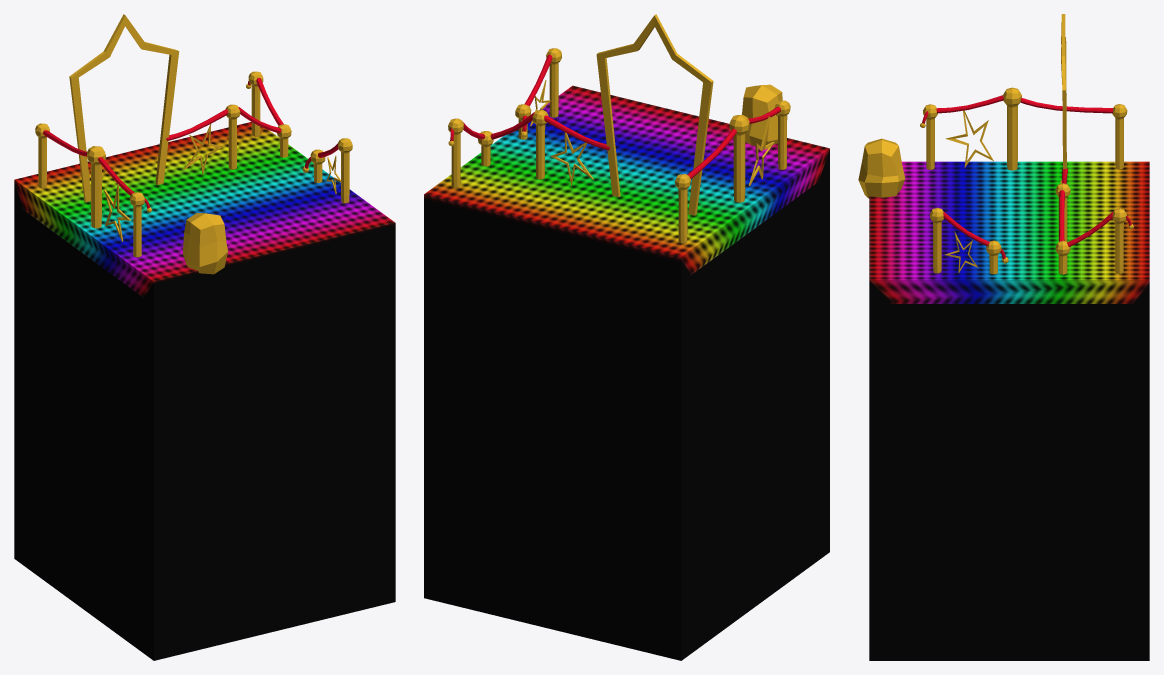
File: Plataforma Medio 3.fbx
3 renders of one model, left to right at view 1: azimuth 30°, elevation 25°; view 2: azimuth 150°, elevation 25°; view 3: azimuth 270°, elevation 25°, orthographic. The views are drawn at different scales.
Visible parts, largest first — view 1: Plataforma Mitad 3, Cube.013, Plane.040, Cube.002, Cube.018; view 2: Plataforma Mitad 3, Cube.013, Plane.040, Cube.018, Cube.002; view 3: Plataforma Mitad 3, Cube.013, Cube.002, Cube.018, Plane.040, Plane.007.
Part boxes in pixels (box(x1,y1,x2,y2)): Plataforma Mitad 3: box(14, 122, 395, 660); Cube.013: box(35, 71, 352, 257); Plane.040: box(69, 14, 179, 202); Cube.002: box(182, 213, 227, 274); Cube.018: box(43, 78, 338, 212); Plataforma Mitad 3: box(424, 85, 829, 660); Cube.013: box(448, 48, 790, 243); Plane.040: box(596, 14, 713, 215); Cube.018: box(448, 54, 780, 178); Cube.002: box(742, 84, 782, 146); Plataforma Mitad 3: box(869, 161, 1149, 660); Cube.013: box(923, 87, 1127, 274); Cube.002: box(858, 138, 905, 198); Cube.018: box(920, 95, 1133, 263); Plane.040: box(1061, 14, 1066, 169); Plane.007: box(945, 110, 993, 167).
Size of the model in its own units: 1000 by 2212 by 1040.
Materials: 1 (1 with a texture image).
